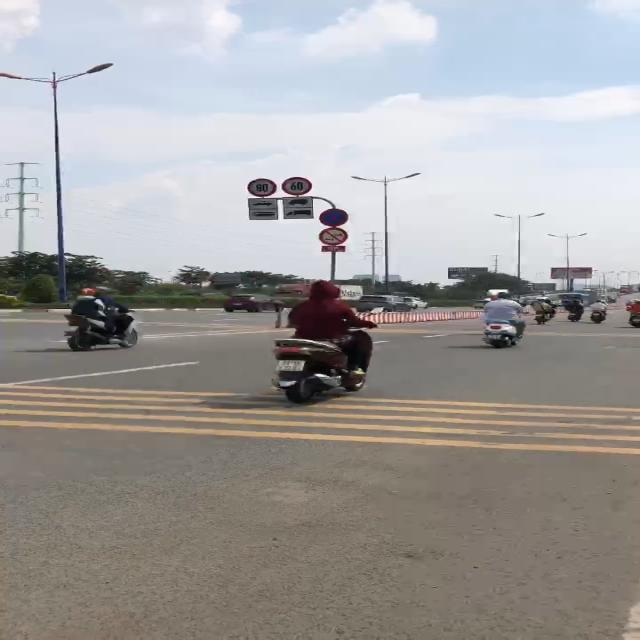Bien bao toc do toi da cho phep: (248, 178, 278, 198), (282, 176, 312, 196)
